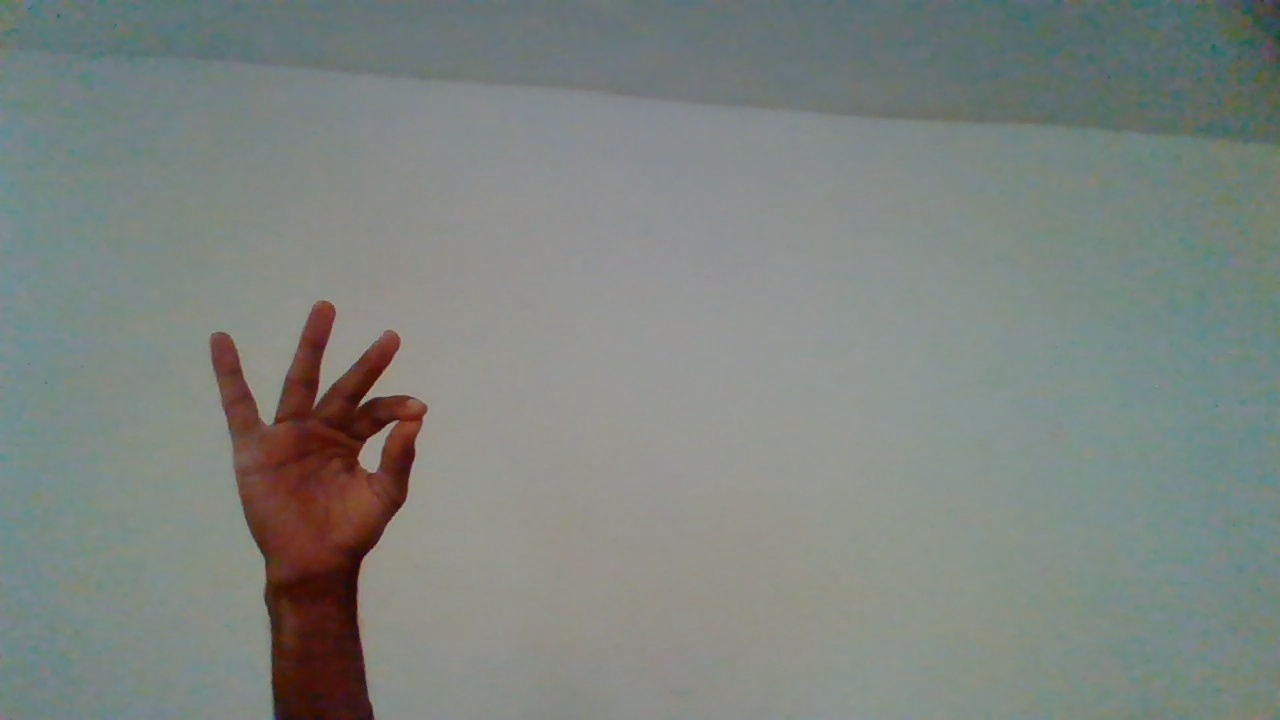le: (206, 298, 426, 687)
